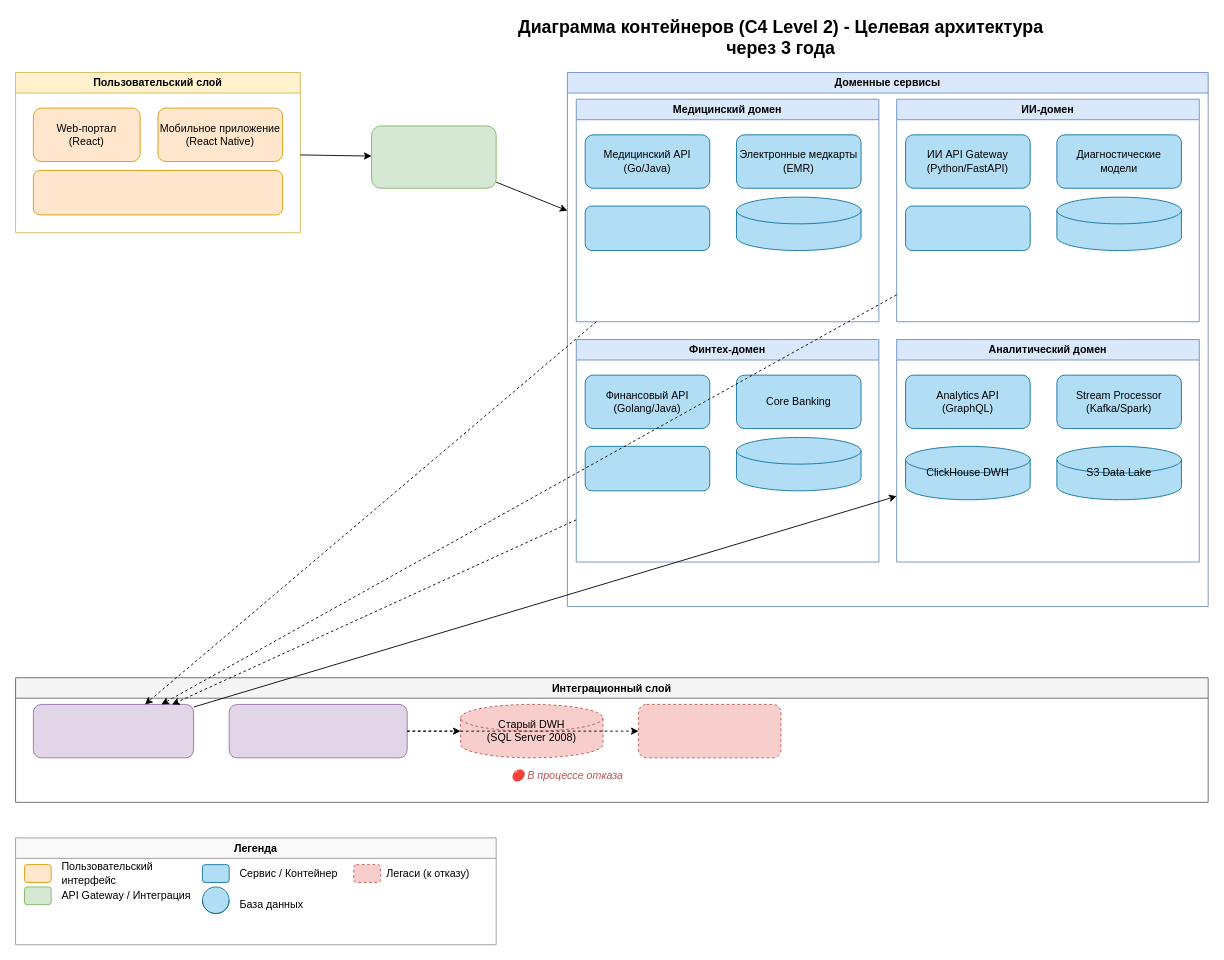
The diagram is 1224 pixels wide and 960 high, and some of its shapes have lost their labels. The centre of each missing label's shape, as x and y in pixels:
"API Gateway (Kong / Nginx)" goes at [433,156].
"BI-дашборды (Power BI / Superset)" goes at [157,192].
"Vector DB / Redis" goes at [1118,223].
"Антикоррупционный слой (Anti-Corruption Layer)" goes at [317,731].
"Лабораторные данные" goes at [647,228].
"Медицинская БД (PostgreSQL)" goes at [798,223].
"Платёжный шлюз" goes at [647,468].
"Предиктивная аналитика" goes at [967,228].
"Событийная шина (Kafka / RabbitMQ)" goes at [113,731].
"Старая ESB (Apache Camel)" goes at [709,731].
"Финансовая БД (PostgreSQL)" goes at [798,464].
